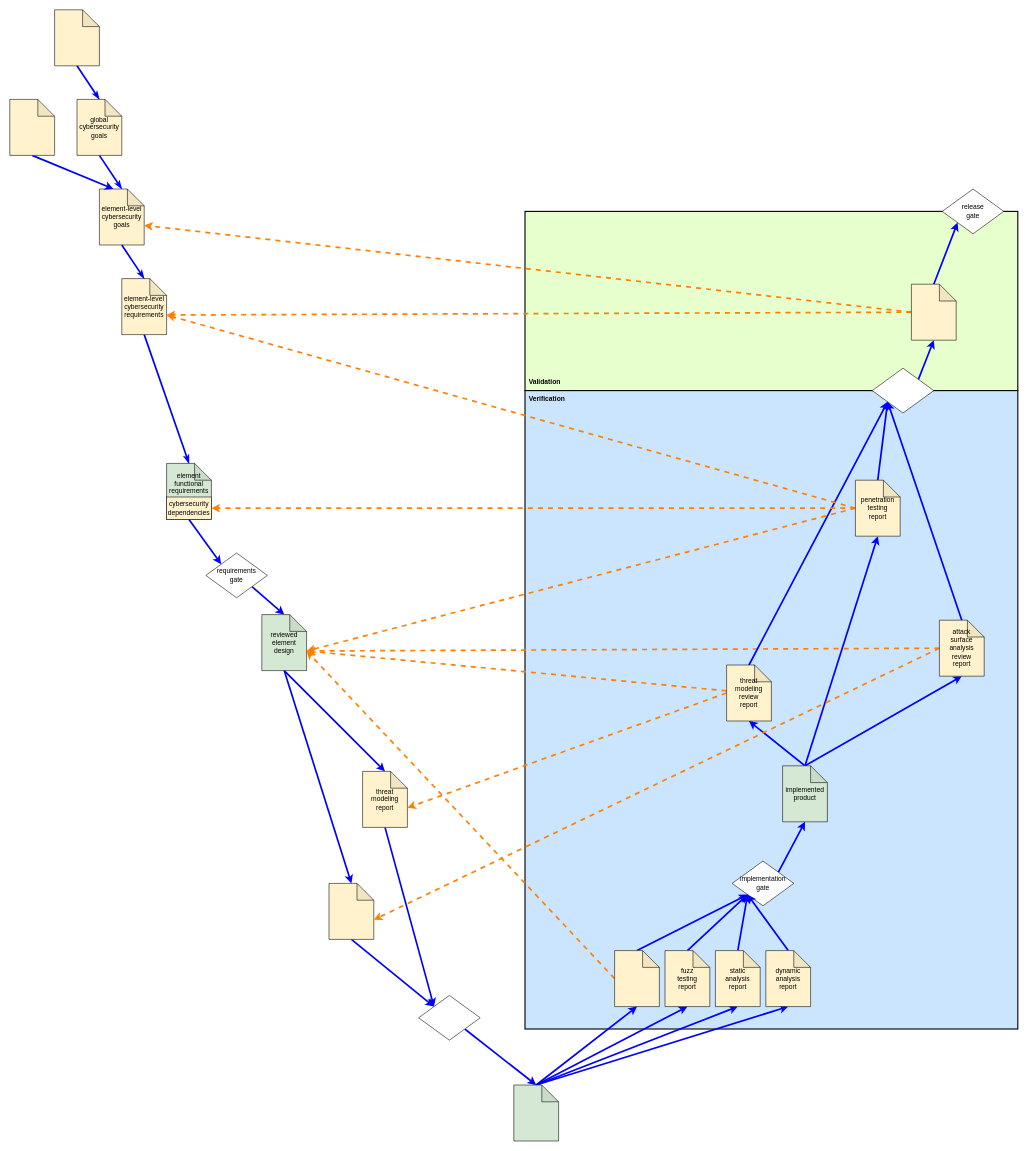
The diagram is 1028 pixels wide and 1151 high, and some of its shapes have lost their labels. Here are the shapes that lost their labels. From the top down, the box of each, then its label:
(54, 9, 99, 66): organizational cybersecurity policy
(9, 99, 55, 155): global cybersecurity requirements
(911, 284, 956, 340): final security review report
(872, 368, 934, 413): verification gate
(328, 883, 374, 939): attack surface analysis report
(614, 950, 659, 1007): security code review report
(418, 995, 480, 1040): design gate
(513, 1084, 559, 1141): implemented element
